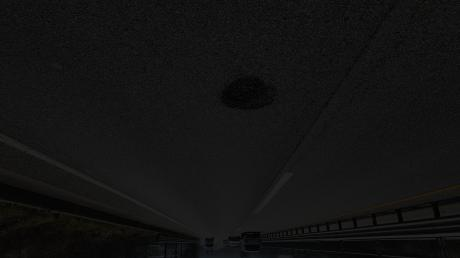pothole: (199, 49, 305, 128)
